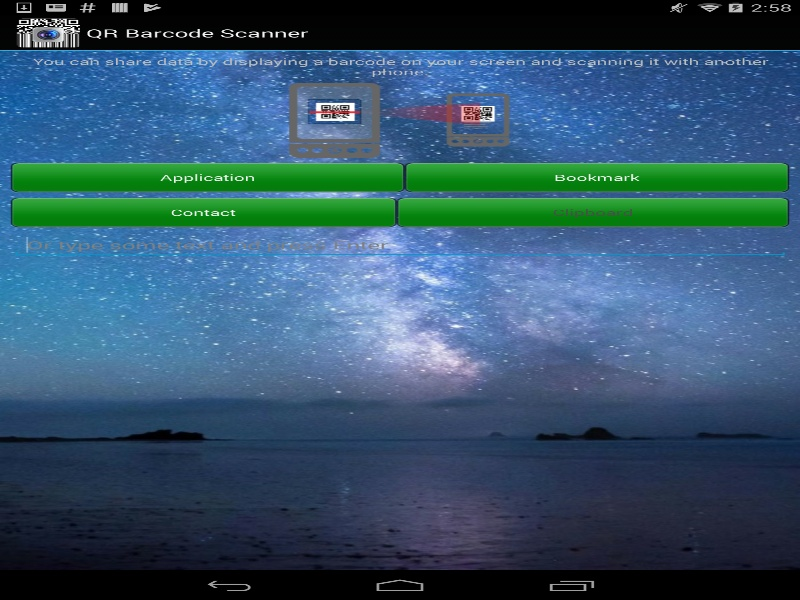Button: (10, 162, 404, 192), (396, 197, 789, 227), (10, 197, 396, 227), (404, 162, 789, 192)
Input: (10, 232, 789, 257)
